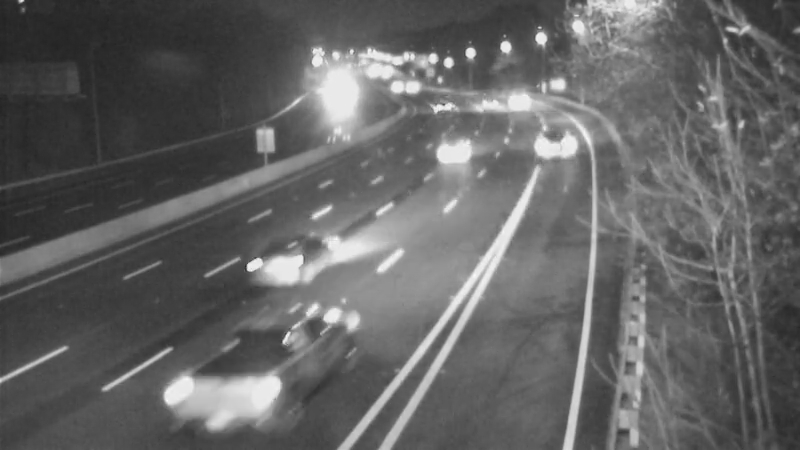vehicle: (168, 342, 278, 450), (407, 121, 487, 201), (231, 222, 311, 302), (460, 73, 510, 123), (497, 77, 547, 127), (418, 83, 468, 133), (528, 121, 578, 171)
